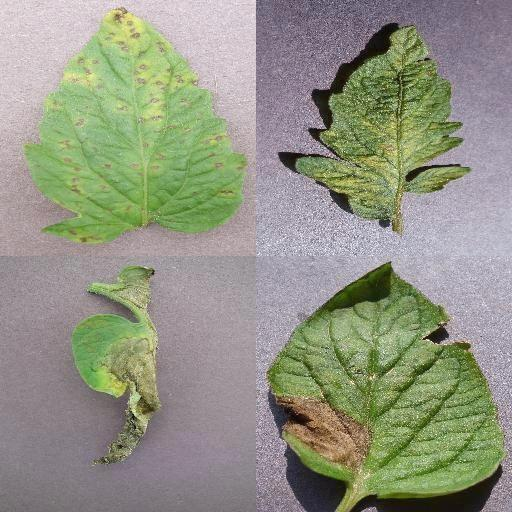Late Blight: (270, 261, 506, 503), (67, 311, 165, 473)
Mosaic Virus: (294, 22, 474, 222)
Septoria: (26, 8, 248, 242)
